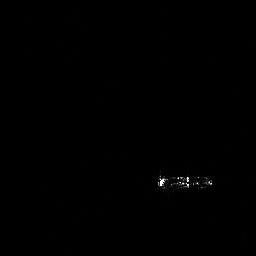ship: (153, 169, 216, 194)
